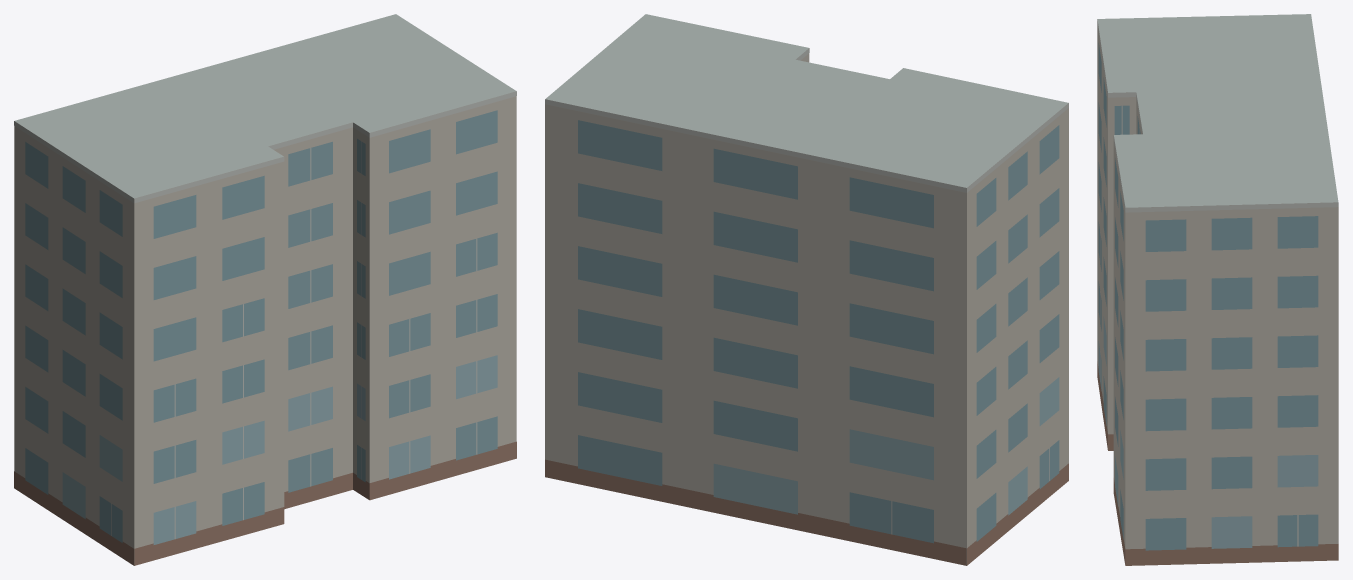
The model's file is survey-upis-32887465.glb.
The picture shows the model from 3 angles, left to right: view 1: azimuth 30°, elevation 25°; view 2: azimuth 150°, elevation 25°; view 3: azimuth 270°, elevation 25°; orthographic projection. The views are drawn at different scales.
Visible parts, largest first — view 1: survey-upis-32887465.tmp; view 2: survey-upis-32887465.tmp; view 3: survey-upis-32887465.tmp.
Part boxes in pixels (x1,y1,x2,y2): survey-upis-32887465.tmp: (14,14,516,565); survey-upis-32887465.tmp: (545,14,1068,565); survey-upis-32887465.tmp: (1097,14,1338,565).
Size of the model in its own units: 21.25 by 18.3 by 11.17.
